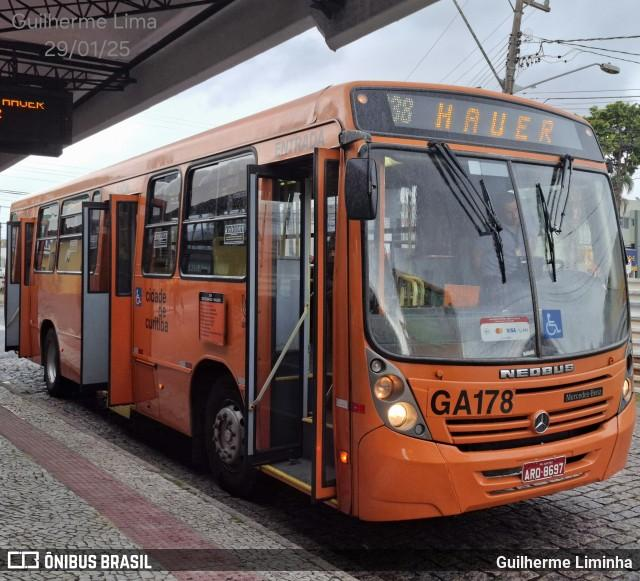HAUER: (426, 94, 565, 150)
